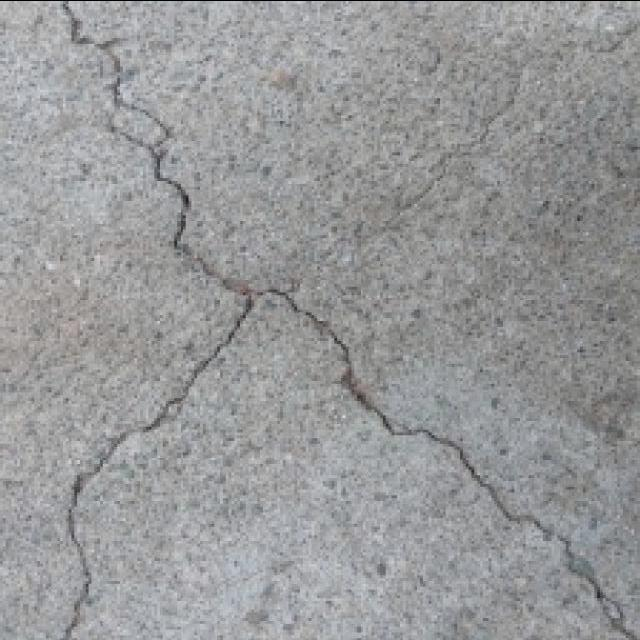SurfaceCrack: (32, 20, 636, 640)
